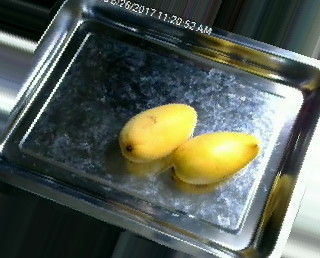Mango: (119, 102, 198, 162), (172, 131, 259, 184)
